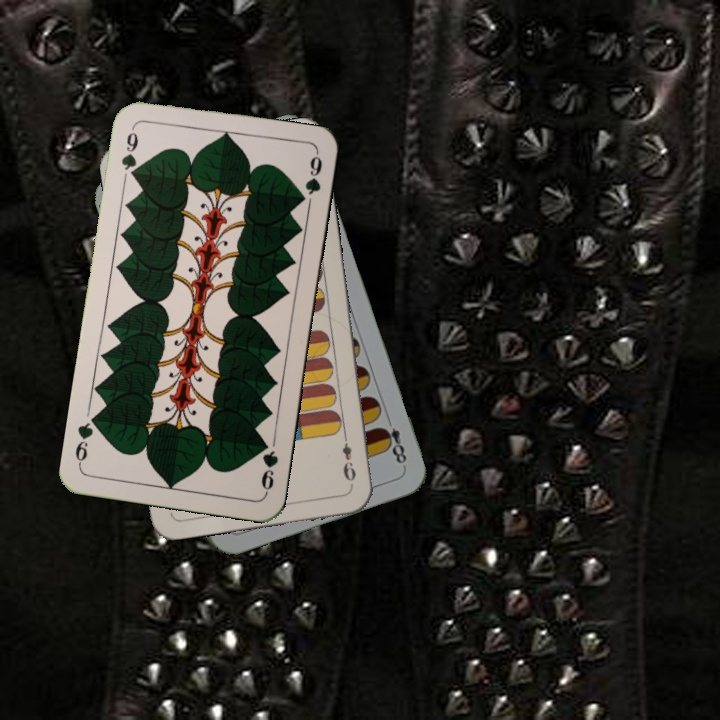E8: (376, 412, 410, 470)
E9: (338, 429, 358, 484)
G9: (257, 436, 281, 496), (117, 123, 141, 182)
